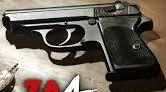gun: (1, 1, 166, 92)
